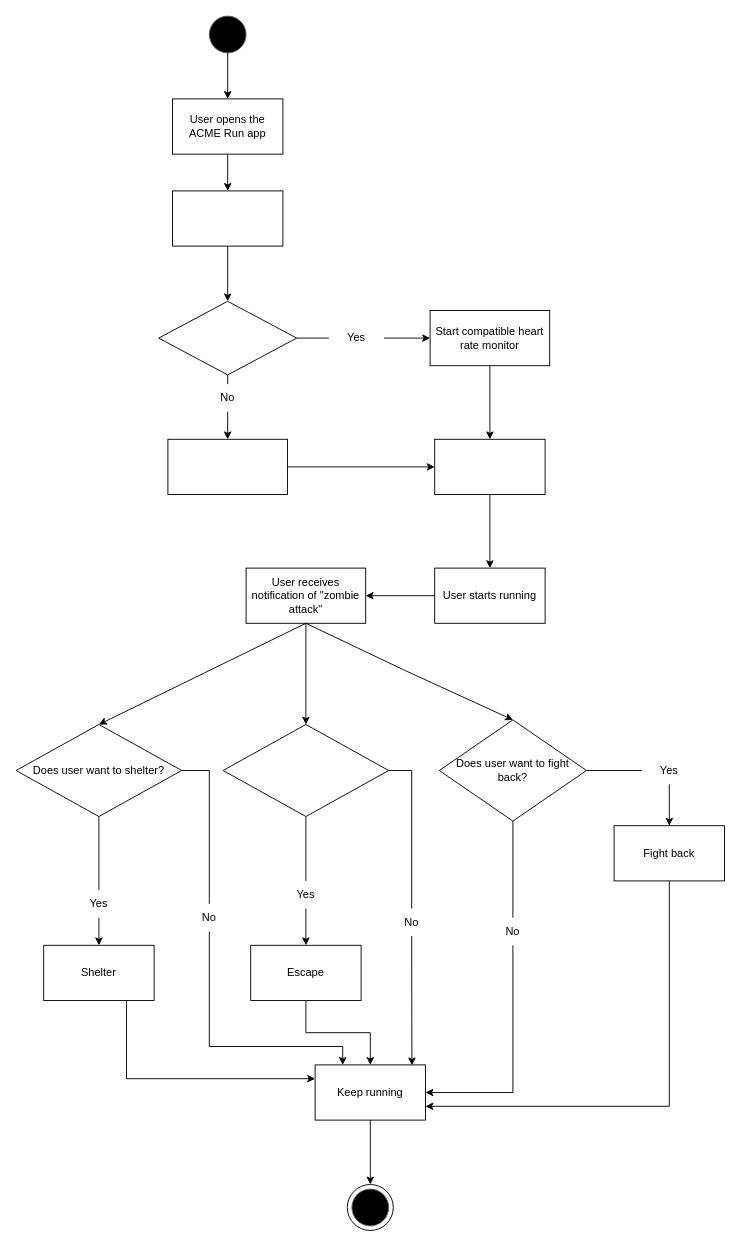
This 741x1247 diagram has some shape labels left out. Each missing label, with the centre of its shape:
Does user have a compatible HRM?: [227,337]
Does user want to escape?: [305,770]
Don't start incompatible HRM: [227,466]
User registers in a geographical zone: [227,218]
User selects trail: [489,466]
